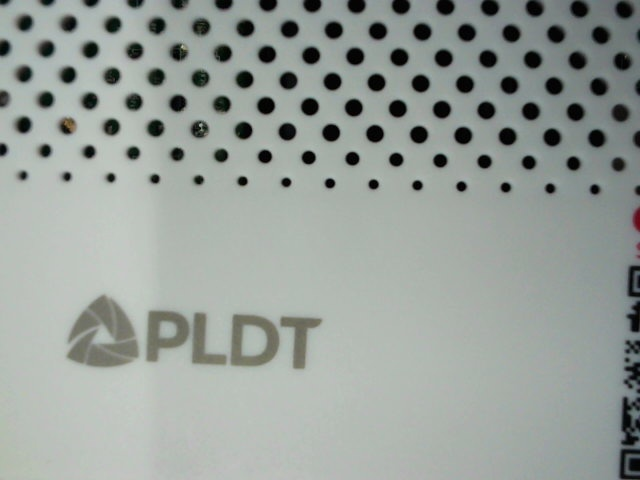BH_PLDT: (52, 280, 334, 381)
